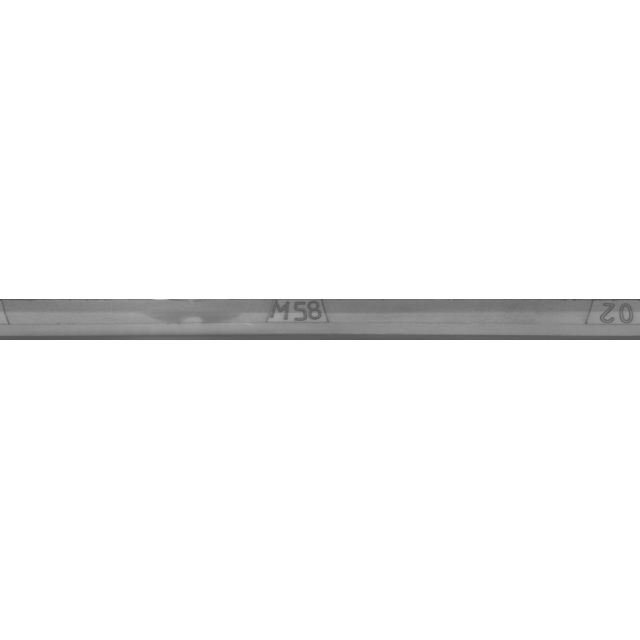mohao: (198, 270, 398, 370)
xuehao: (515, 270, 640, 370)
